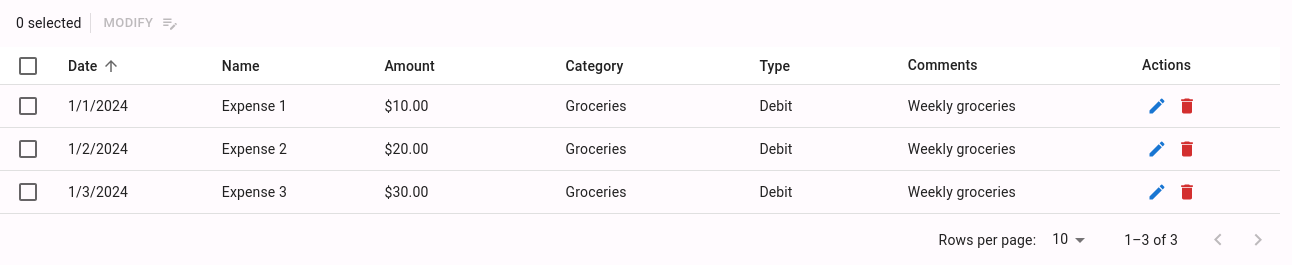
Test case: ImportReviewTable › selection › should deselect all when header checkbox is clicked again
The image size is (1292, 265).
Click the checkbox named "Select all expenses" at {"x": 28, "y": 66}, box top-left (16, 54), bottom-right (40, 78)
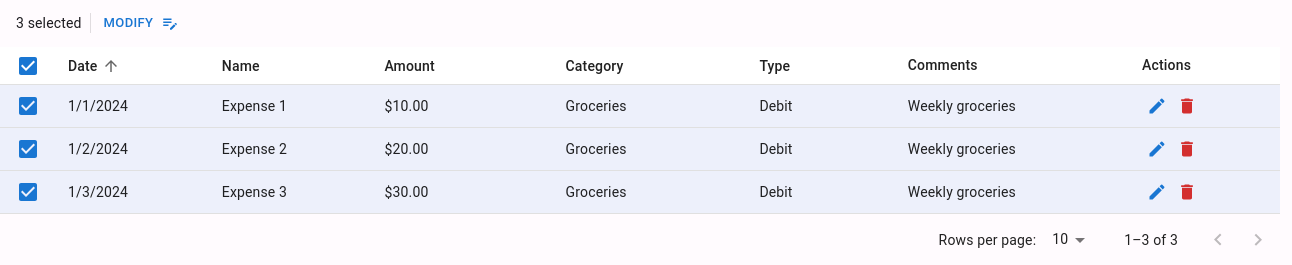
Check: the text "3 selected" is shown, box top-left (16, 13), bottom-right (91, 33)
Click the checkbox named "Select all expenses" at {"x": 28, "y": 66}, box top-left (16, 54), bottom-right (40, 78)
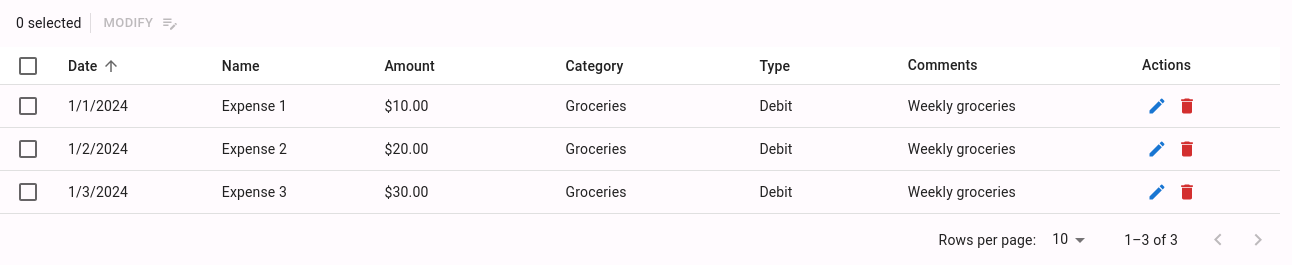
Check: the text "0 selected" is shown, box top-left (16, 13), bottom-right (91, 33)
